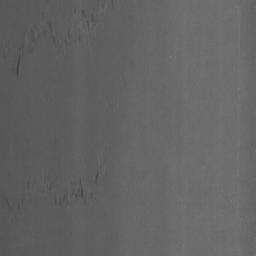Silk spot: (55, 176, 96, 208), (86, 157, 106, 184), (12, 42, 24, 78), (81, 9, 97, 32), (42, 183, 56, 193), (64, 28, 71, 47), (18, 193, 25, 210), (44, 21, 53, 34), (31, 30, 40, 42), (51, 36, 59, 48)
